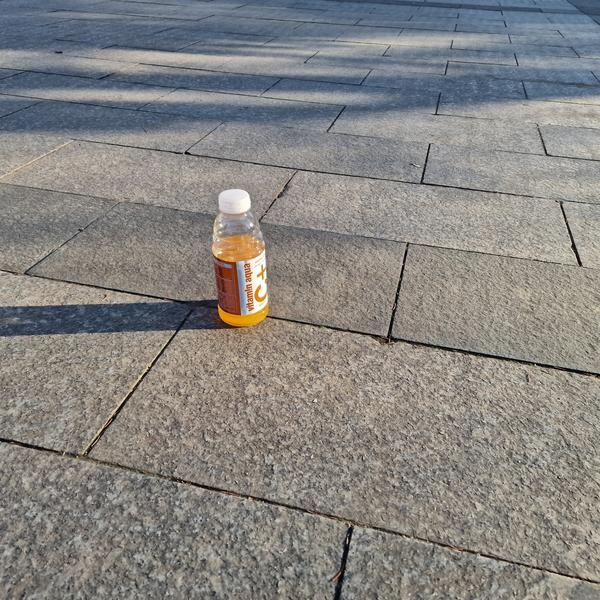plastic_bottle: (206, 185, 273, 330)
